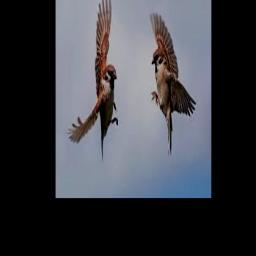Sparrow: (67, 0, 119, 160), (150, 12, 197, 156)
